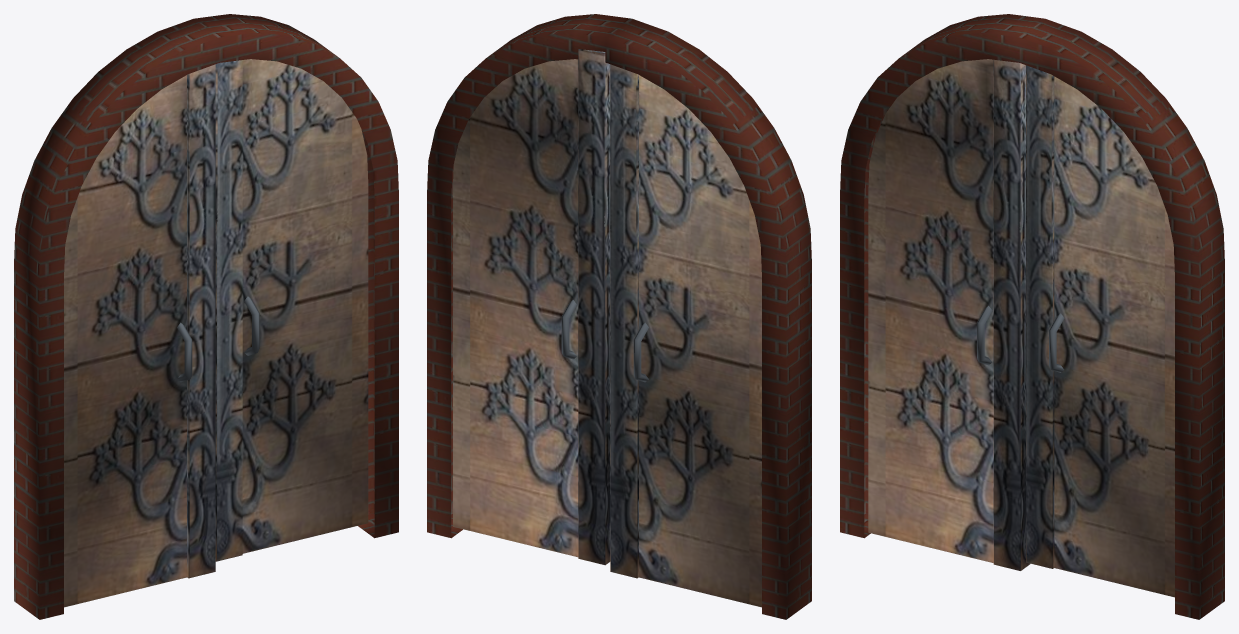
File: low-poly-wooden-door.obj
3 views of the same model, side by side, from view 1: azimuth 30°, elevation 25°; view 2: azimuth 150°, elevation 25°; view 3: azimuth 330°, elevation 25° (orthographic).
Visible parts, largest first — view 1: l_1, r_1, br; view 2: l_1, r_1, br; view 3: r_1, l_1, br.
Part boxes in pixels (x1,y1,x2,y2): l_1: (215,59,368,561); r_1: (64,64,215,607); br: (14,14,398,619); l_1: (453,49,610,565); r_1: (610,64,761,607); br: (427,14,811,619); r_1: (868,59,1030,570); l_1: (1026,65,1174,597); br: (840,14,1224,619).
Size of the model in its own units: 4.72 by 6.77 by 0.9105.
3 materials, 3 textured.
